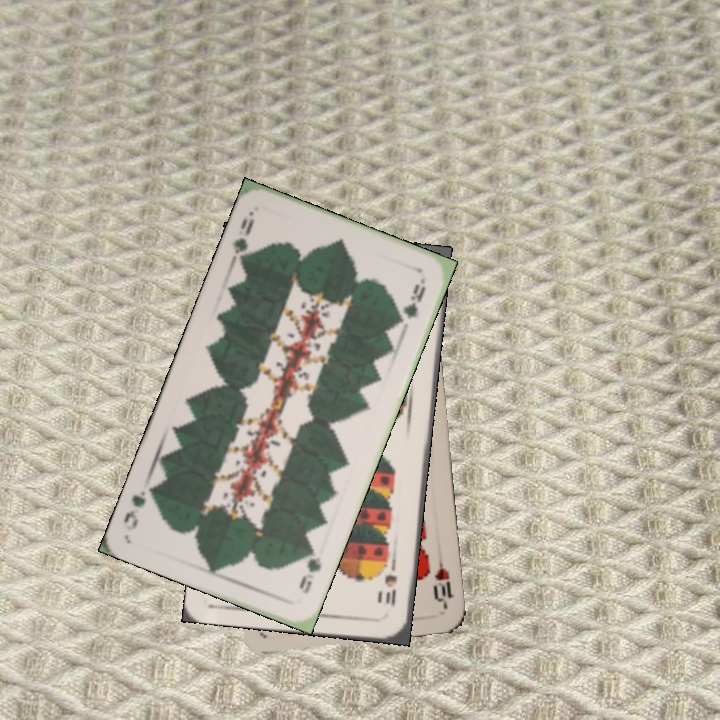G9: (227, 207, 257, 268), (295, 543, 324, 597)
H10: (430, 551, 455, 610)
S10: (380, 558, 400, 609)
